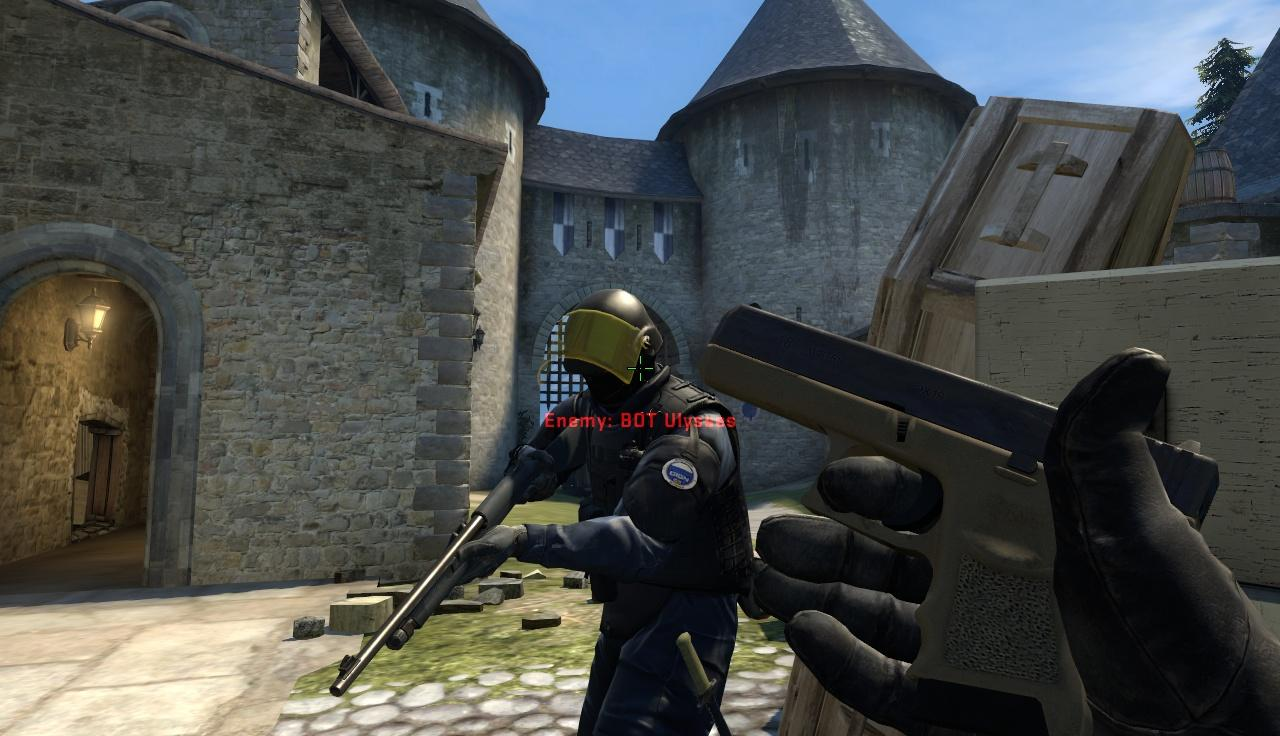ct: (540, 291, 729, 736)
cthead: (566, 289, 655, 390)
pistol: (704, 303, 1222, 736)
